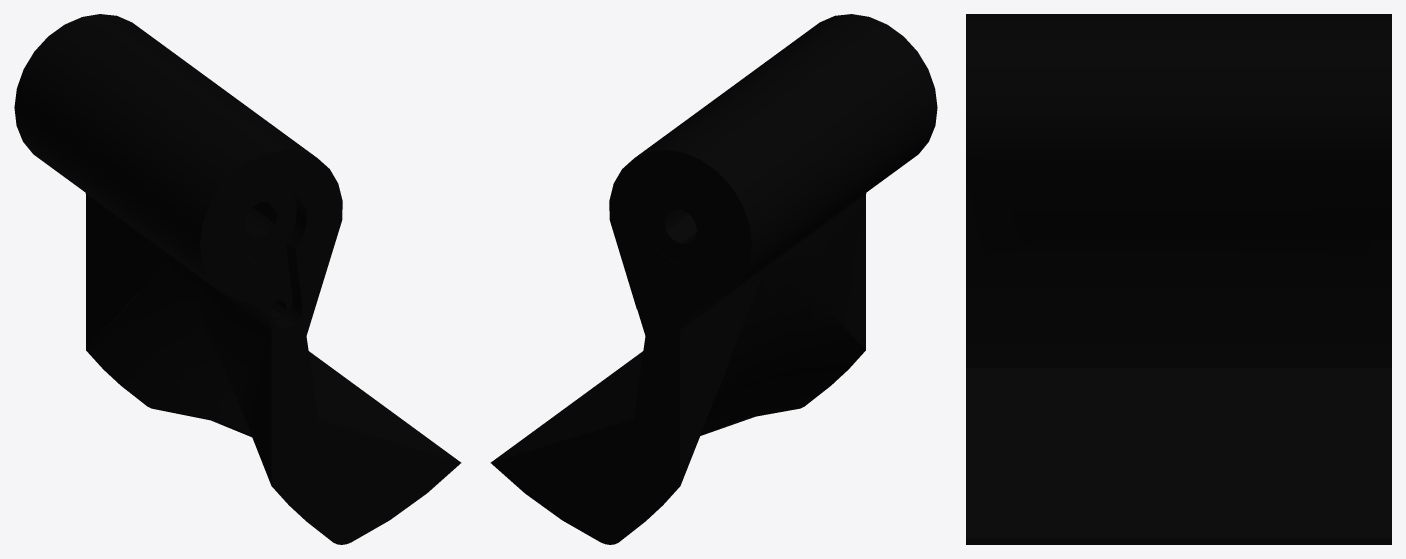
The model's file is p_kovsh.fbx.
3 views of the same model, side by side, from view 1: azimuth 30°, elevation 25°; view 2: azimuth 150°, elevation 25°; view 3: azimuth 270°, elevation 25° (orthographic). The views are drawn at different scales.
Visible parts, largest first — view 1: kovsh.003; view 2: kovsh.003; view 3: kovsh.003.
Part boxes in pixels (bbox=[...]): kovsh.003: bbox=[14, 14, 461, 544]; kovsh.003: bbox=[490, 14, 937, 544]; kovsh.003: bbox=[966, 14, 1391, 544].
Size of the model in its own units: 4.75 by 7.13 by 5.84.
Materials: 1 (1 with a texture image).
